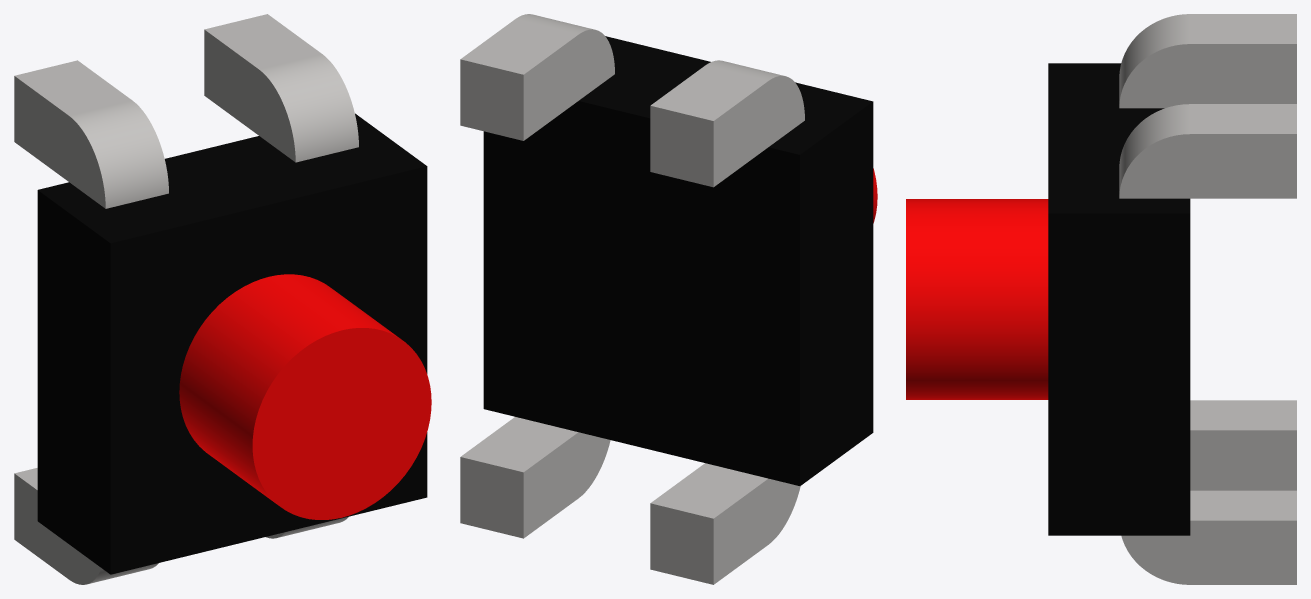
File: Button.fbx
3 views of the same model, side by side, from view 1: azimuth 30°, elevation 25°; view 2: azimuth 150°, elevation 25°; view 3: azimuth 270°, elevation 25° (orthographic). The views are drawn at different scales.
Parts seen in each view (by area): view 1: Body5, Body6, Body1, Body3, Body4; view 2: Body5, Body1, Body3, Body2, Body4; view 3: Body5, Body6, Body1, Body3, Body2, Body4.
Part boxes in pixels (x1,y1,x2,y2): Body5: [37, 113, 427, 574]; Body6: [179, 274, 431, 519]; Body1: [204, 14, 358, 162]; Body3: [14, 60, 168, 208]; Body4: [14, 468, 158, 584]; Body5: [483, 36, 873, 485]; Body1: [460, 14, 614, 140]; Body3: [650, 60, 804, 187]; Body2: [460, 417, 610, 538]; Body4: [650, 463, 800, 584]; Body5: [1048, 63, 1190, 535]; Body6: [906, 199, 1048, 399]; Body1: [1119, 104, 1296, 198]; Body3: [1119, 14, 1296, 108]; Body2: [1121, 490, 1296, 584]; Body4: [1190, 400, 1296, 490].
Size of the model in its own units: 10 by 14 by 11.
